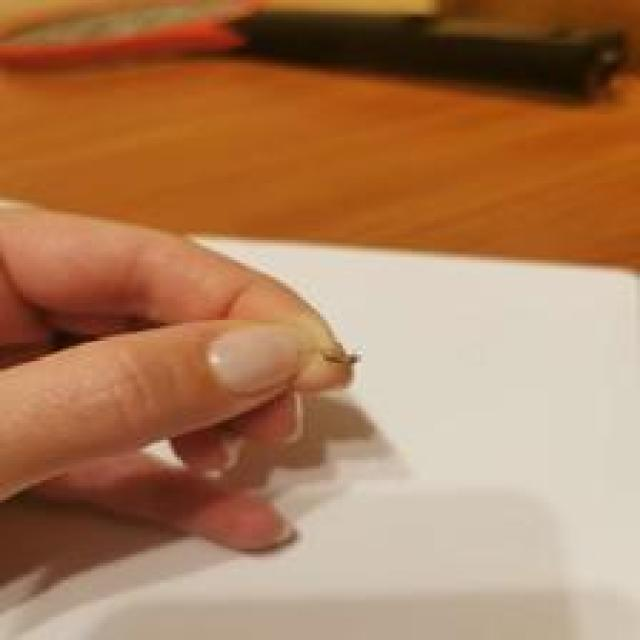Culex: (0, 0, 631, 100)
